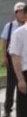boots: (3, 111, 10, 117), (0, 114, 13, 117)
hard-hat: (0, 0, 8, 10)
